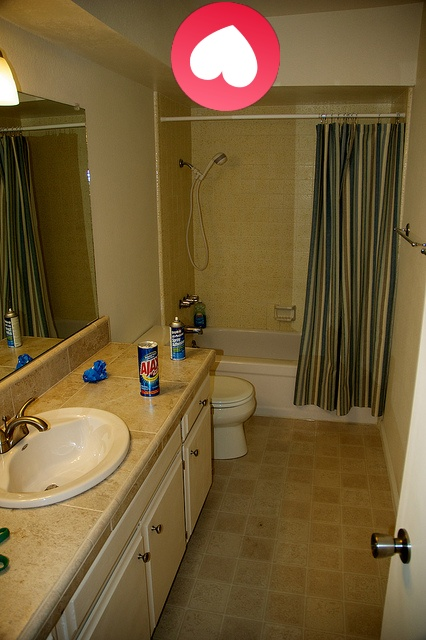love: (171, 2, 280, 111)
